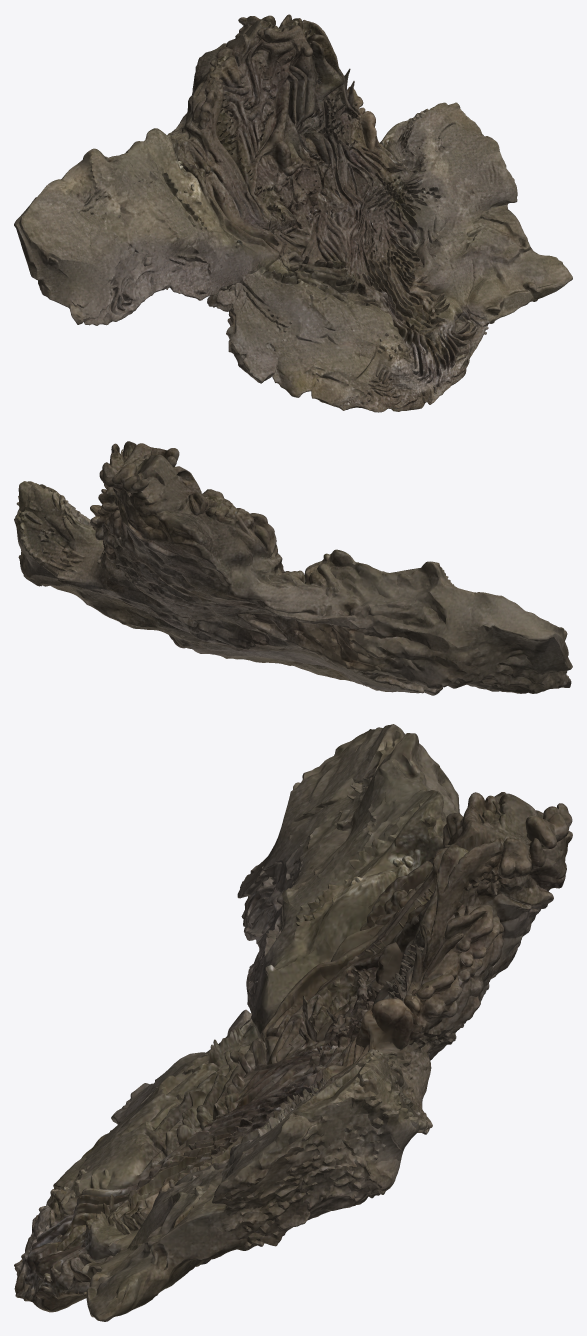
The model's file is crinoid_1.glb.
The picture shows the model from 3 angles, top to bottom: view 1: azimuth 30°, elevation 25°; view 2: azimuth 150°, elevation 25°; view 3: azimuth 270°, elevation 25°; orthographic projection. The views are drawn at different scales.
Size of the model in its own units: 1.9 by 1.09 by 1.14.
Materials: 1 (1 with a texture image).
